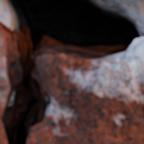broken_brick: (28, 39, 143, 143), (0, 52, 8, 113), (0, 21, 13, 42), (0, 122, 5, 143)
crack: (0, 0, 143, 143)
